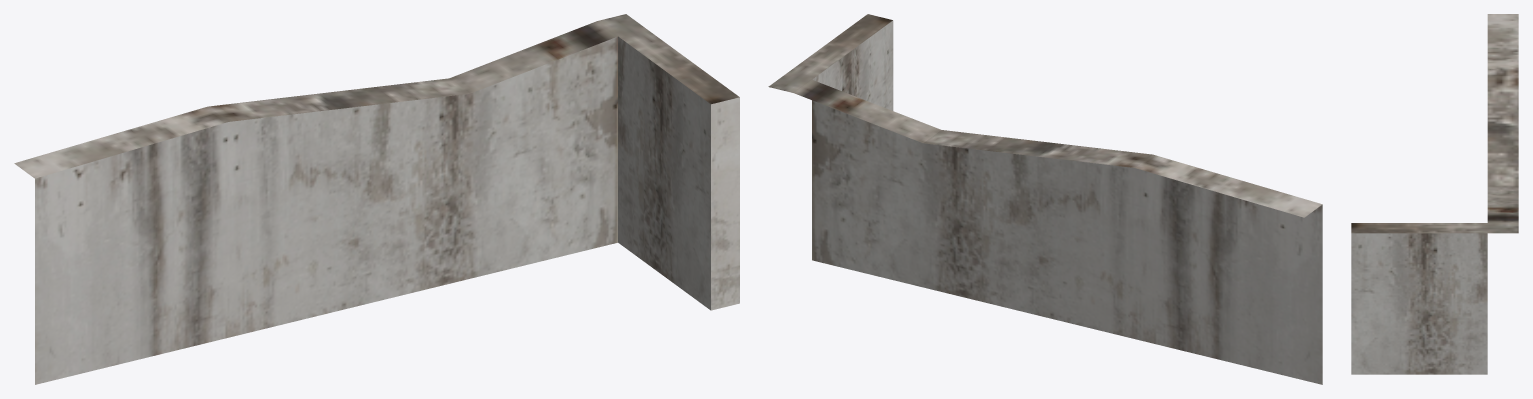
The model's file is Fence2 1.fbx.
3 views of the same model, side by side, from view 1: azimuth 30°, elevation 25°; view 2: azimuth 150°, elevation 25°; view 3: azimuth 270°, elevation 25° (orthographic). The views are drawn at different scales.
Parts seen in each view (by area): view 1: Cube.004; view 2: Cube.004; view 3: Cube.004.
Boxes of the visible parts, bbox=[...] form: Cube.004: bbox=[14, 14, 739, 384]; Cube.004: bbox=[768, 14, 1322, 384]; Cube.004: bbox=[1351, 14, 1518, 374].
Size of the model in its own units: 382 by 129 by 123.
